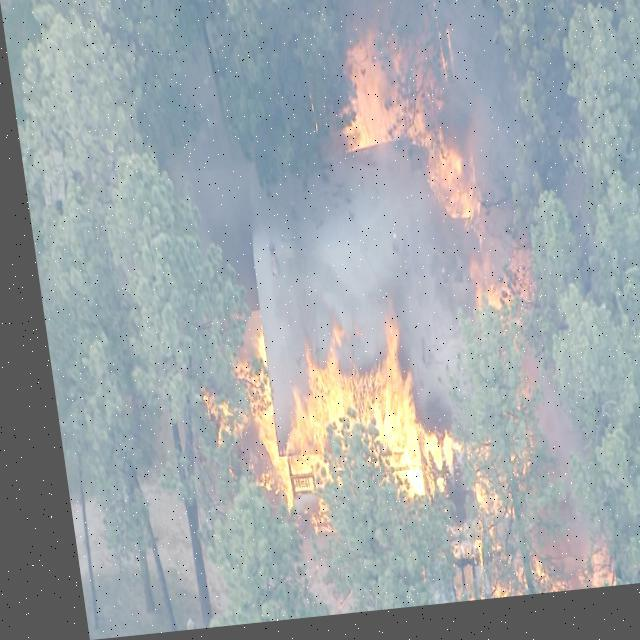Fire: (234, 318, 448, 518), (331, 37, 475, 231)
